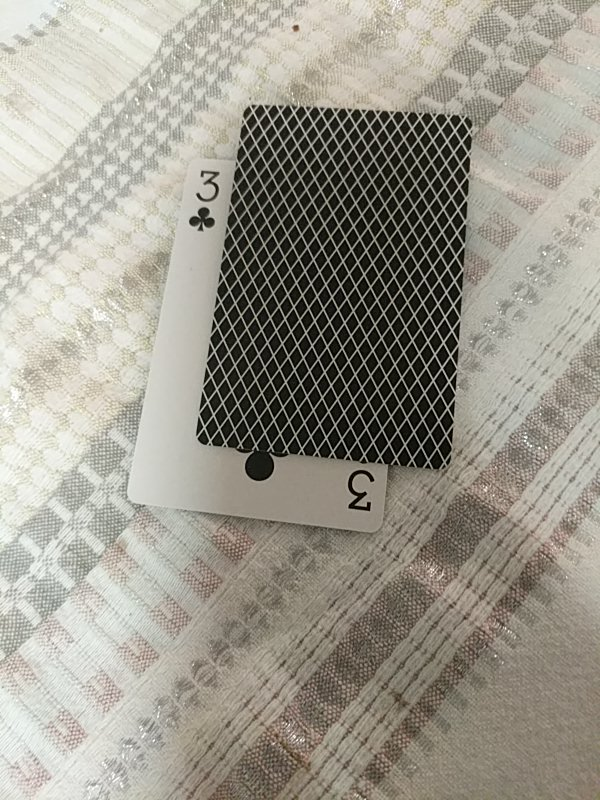Clubs: (127, 159, 391, 535)
